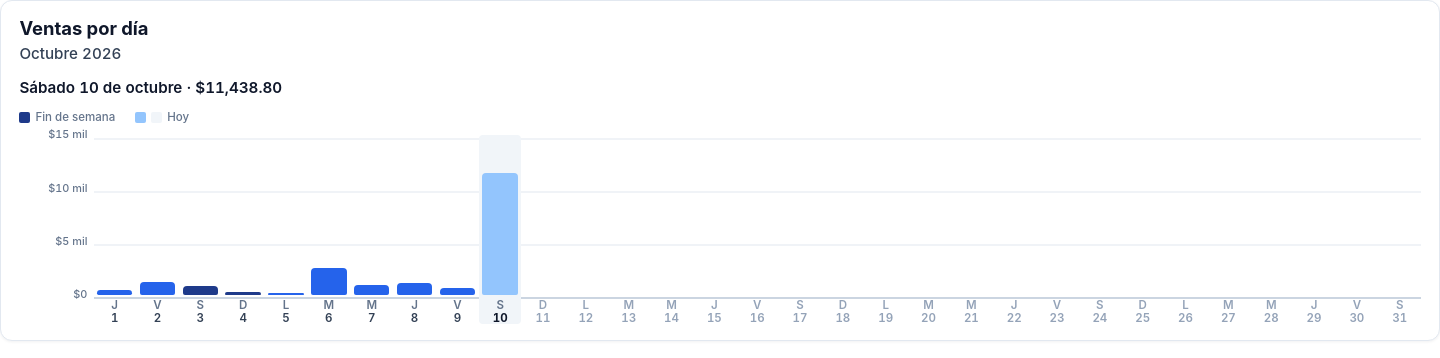
Test case: AnaliticaDiasMes › reserva 31 columnas, futuros sin botón y el detalle cambia al pulsar
This screenshot has width=1440, height=358.
Expected: the text "Octubre 2026" is shown, [19,44,122,63]
Expected: the text "Ventas por día" is shown, [19,17,148,39]
Click the button named "Lunes 5 de octubre: $0.00" at (286, 230), box [265,135,307,324]
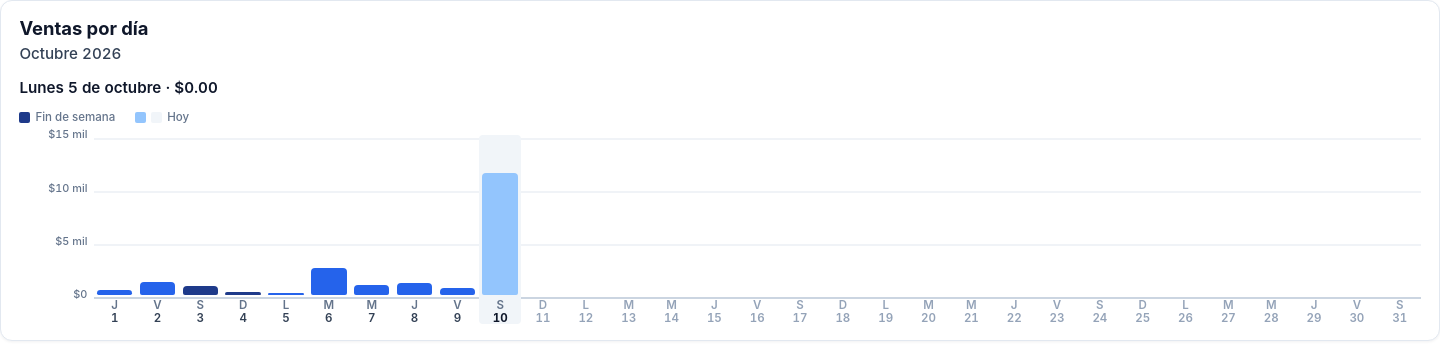
Expected: the text "Lunes 5 de octubre · $0.00" is shown, [19,78,218,97]
